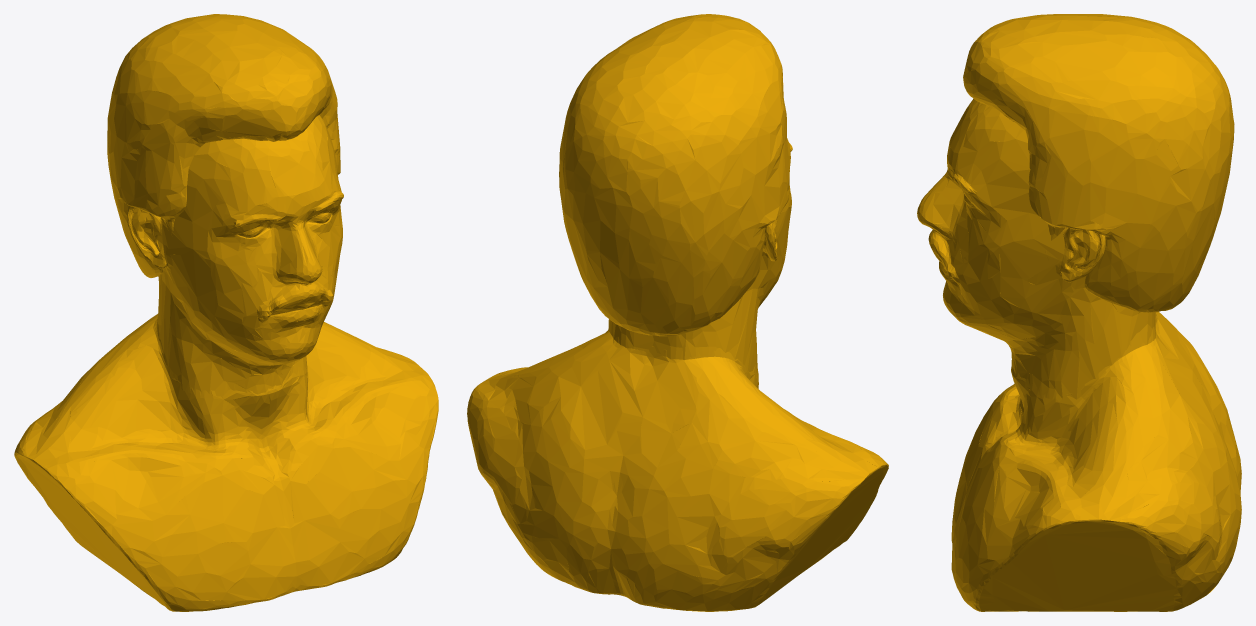
File: ireneo.glb
3 renders of one model, left to right at view 1: azimuth 30°, elevation 25°; view 2: azimuth 150°, elevation 25°; view 3: azimuth 270°, elevation 25°, orthographic. The views are drawn at different scales.
Parts seen in each view (by area): view 1: Ireneo 3Dless Com Simplified; view 2: Ireneo 3Dless Com Simplified; view 3: Ireneo 3Dless Com Simplified.
Boxes of the visible parts, left/top/right/bottom form: Ireneo 3Dless Com Simplified: left=14, top=14, right=438, bottom=611; Ireneo 3Dless Com Simplified: left=467, top=14, right=888, bottom=611; Ireneo 3Dless Com Simplified: left=917, top=14, right=1241, bottom=611.
Bounding box in the file's own units: 1.84 × 2.31 × 1.29.
